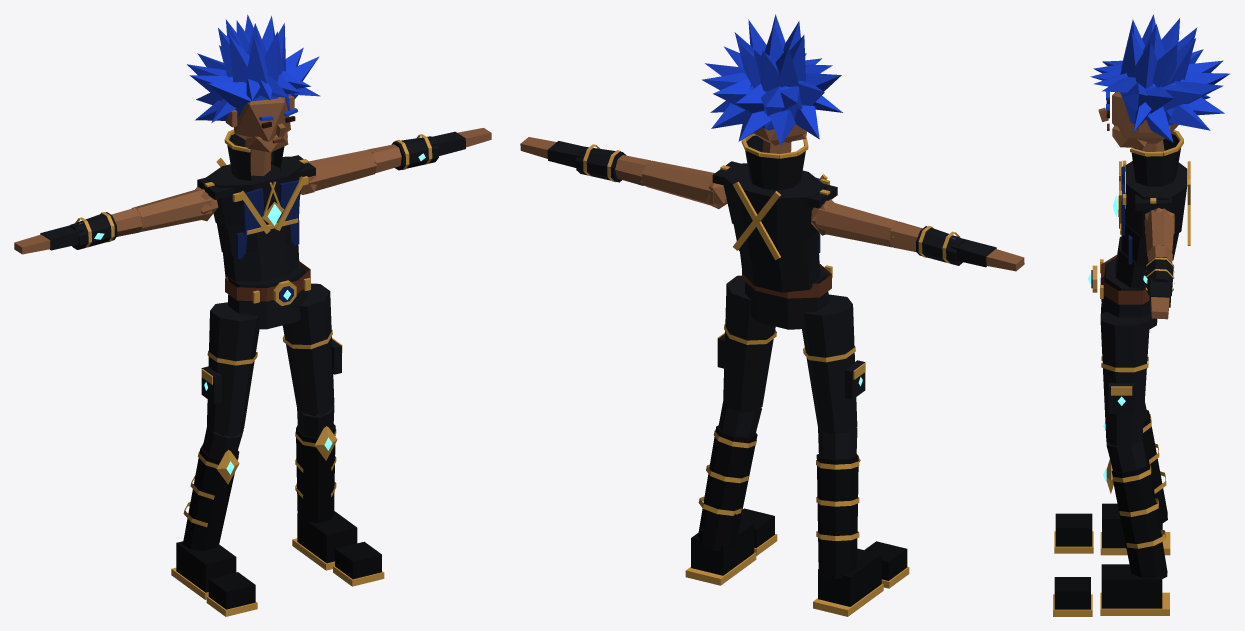
The model's file is Rizer_TPose_Unrigged.fbx.
The picture shows the model from 3 angles, left to right: view 1: azimuth 30°, elevation 25°; view 2: azimuth 150°, elevation 25°; view 3: azimuth 270°, elevation 25°; orthographic projection. The views are drawn at different scales.
Visible parts, largest first — view 1: RizerBody.001; view 2: RizerBody.001; view 3: RizerBody.001.
Part boxes in pixels (x1=…): RizerBody.001: x1=14, y1=14, x2=491, y2=616; RizerBody.001: x1=520, y1=14, x2=1024, y2=616; RizerBody.001: x1=1053, y1=14, x2=1229, y2=616.
Bounding box in the file's own units: 184 × 201 × 58.6.
